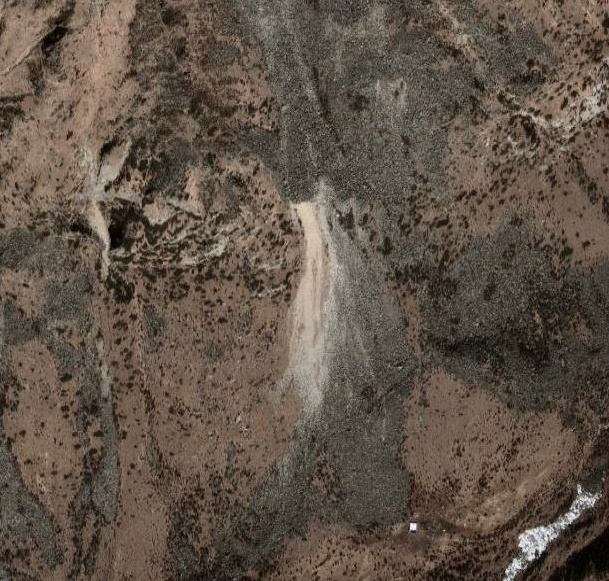slope: (276, 195, 340, 404)
